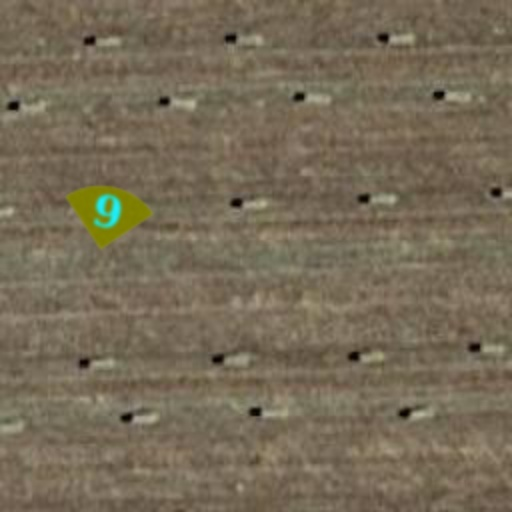quarter_circle: (56, 160, 160, 264)
